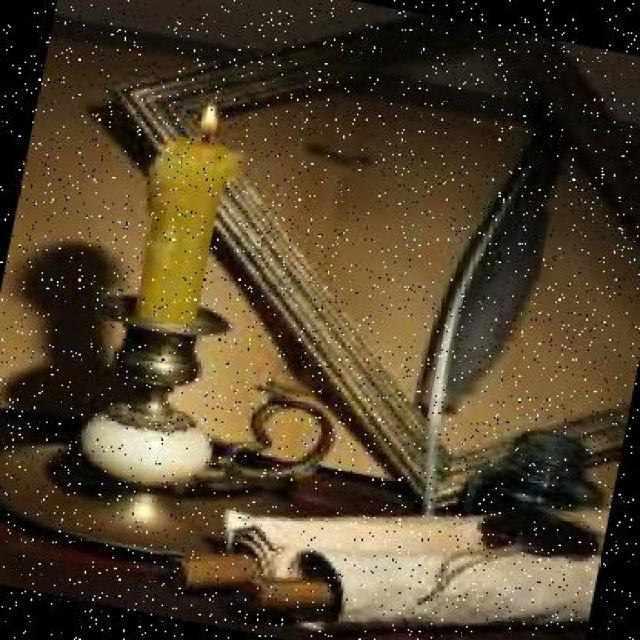fire: (172, 86, 231, 146)
